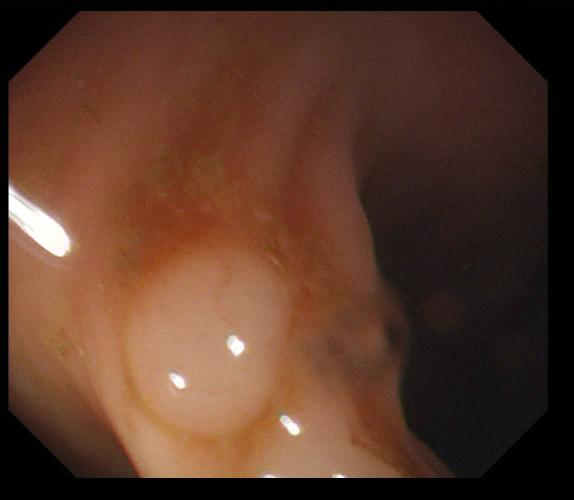polyp: (115, 236, 298, 444)
